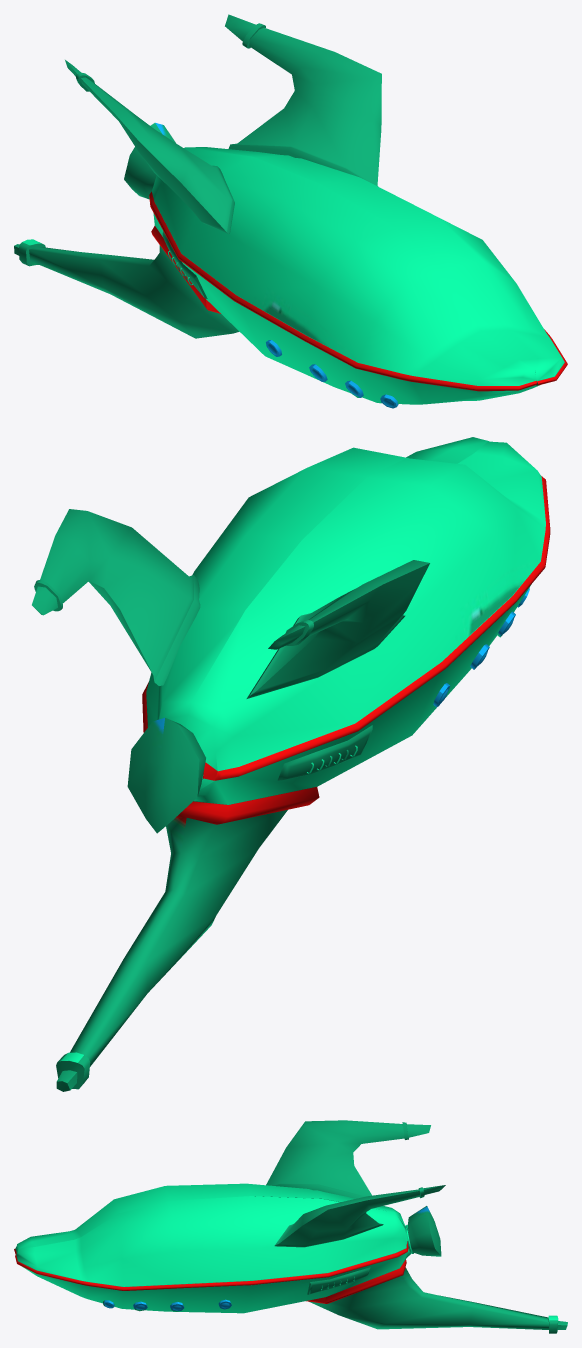
The picture shows the model from 3 angles, top to bottom: view 1: azimuth 30°, elevation 25°; view 2: azimuth 150°, elevation 25°; view 3: azimuth 270°, elevation 25°; orthographic projection. The views are drawn at different scales.
Visible parts, largest first — view 1: nave futurama_Material #4_0; view 2: nave futurama_Material #4_0; view 3: nave futurama_Material #4_0.
Part boxes in pixels (bbox=[...]): nave futurama_Material #4_0: bbox=[14, 14, 567, 408]; nave futurama_Material #4_0: bbox=[32, 437, 550, 1091]; nave futurama_Material #4_0: bbox=[14, 1120, 567, 1333].
Size of the model in its own units: 2.14 by 2.28 by 6.08.
Materials: 1 (1 with a texture image).
